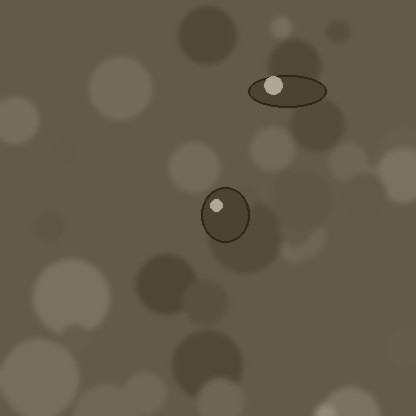gota: (201, 189, 249, 247), (248, 76, 326, 110)
